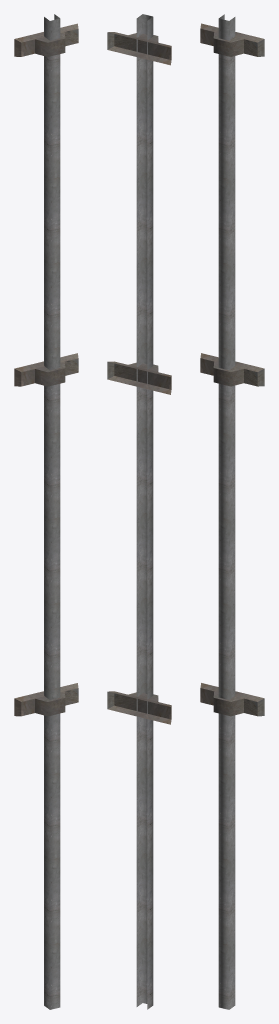
Rendered from p_glo_electrical_pipes_long_LOD1.obj.
3 views of the same model, side by side, from view 1: azimuth 30°, elevation 25°; view 2: azimuth 150°, elevation 25°; view 3: azimuth 330°, elevation 25° (orthographic).
Visible parts, largest first — view 1: mtl_p_rus_pipes_modular; view 2: mtl_p_rus_pipes_modular; view 3: mtl_p_rus_pipes_modular.
Boxes of the visible parts, x1,y1,x2,y2 form: mtl_p_rus_pipes_modular: (14, 14, 78, 1009); mtl_p_rus_pipes_modular: (107, 14, 171, 1009); mtl_p_rus_pipes_modular: (200, 14, 264, 1009).
Size of the model in its own units: 12.27 by 183 by 3.51.
